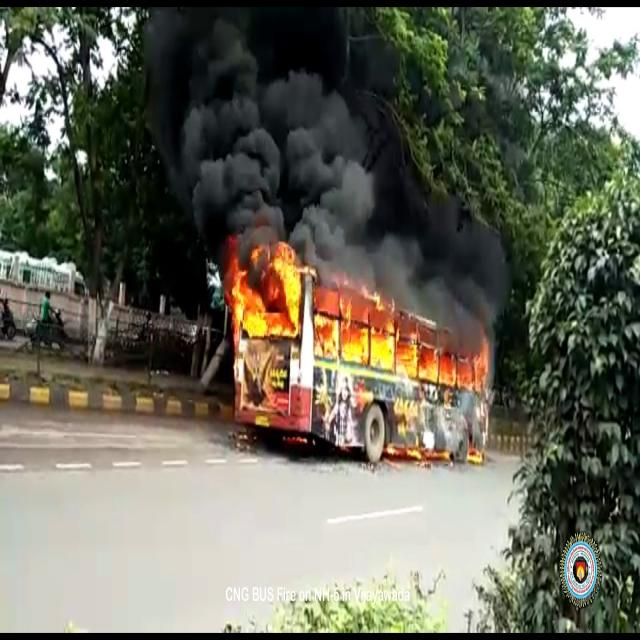accident: (225, 236, 490, 462)
